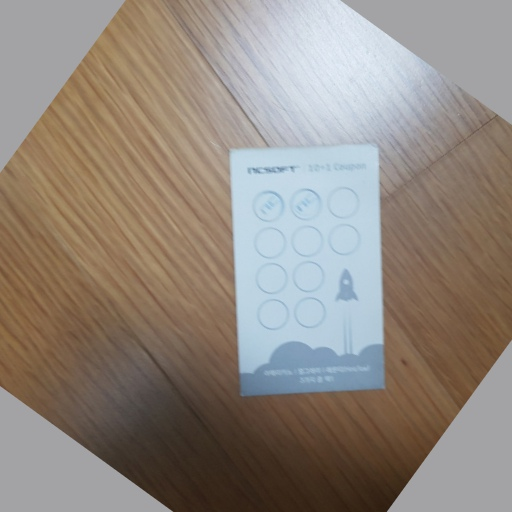Paper_2: (222, 136, 403, 402)
